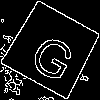G: (26, 24, 83, 85)
